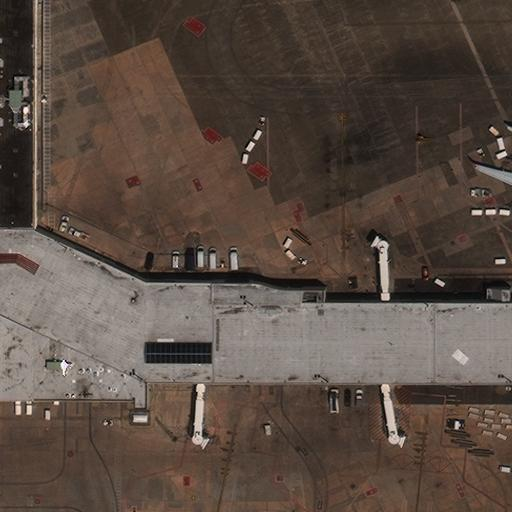Medium Civil Transport: (473, 140, 512, 205)
